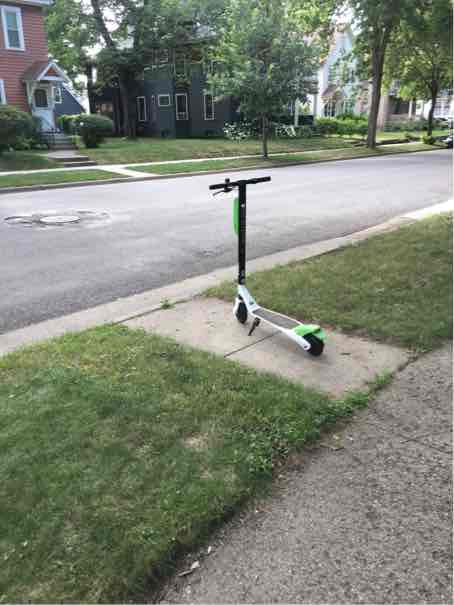scooter: (205, 170, 335, 361)
